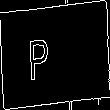P_N: (44, 28, 66, 82)
